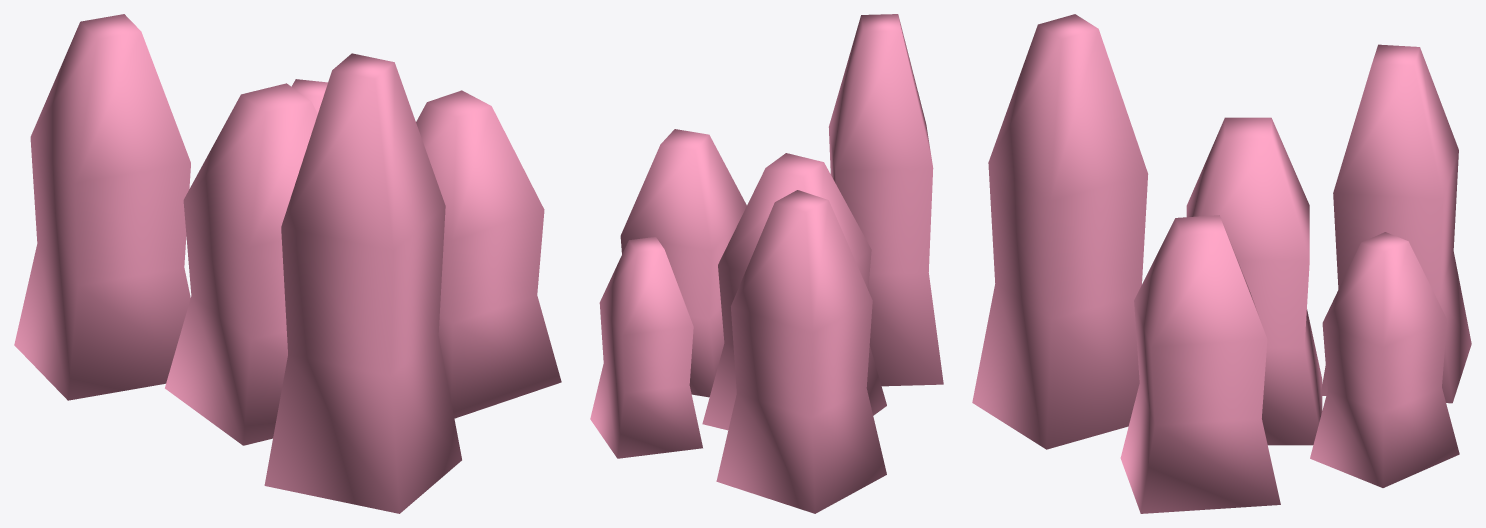
The model's file is Grass.fbx.
The picture shows the model from 3 angles, left to right: view 1: azimuth 30°, elevation 25°; view 2: azimuth 150°, elevation 25°; view 3: azimuth 270°, elevation 25°; orthographic projection. The views are drawn at different scales.
Parts seen in each view (by area): view 1: Cube.004, Cube.003, Cube, Cube.002, Cube.001; view 2: Cube.003, Cube.004, Cube.001, Cube.002, Cube; view 3: Cube.004, Cube.002, Cube.001, Cube.003, Cube.
Part boxes in pixels (bbox=[...]): Cube.004: bbox=[264, 53, 461, 513]; Cube.003: bbox=[14, 14, 190, 400]; Cube: bbox=[165, 83, 317, 445]; Cube.002: bbox=[416, 90, 561, 418]; Cube.001: bbox=[291, 79, 327, 113]; Cube.003: bbox=[716, 190, 886, 513]; Cube.004: bbox=[828, 14, 943, 386]; Cube.001: bbox=[590, 237, 702, 458]; Cube.002: bbox=[620, 129, 746, 397]; Cube: bbox=[702, 153, 886, 430]; Cube.004: bbox=[972, 14, 1148, 449]; Cube.002: bbox=[1120, 215, 1280, 513]; Cube.001: bbox=[1310, 232, 1459, 487]; Cube.003: bbox=[1321, 44, 1471, 403]; Cube: bbox=[1186, 117, 1322, 445].
Bounding box in the file's own units: 247 × 247 × 292.
1 material, 1 textured.
